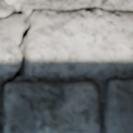brick: (3, 82, 99, 132), (105, 80, 132, 132), (6, 0, 102, 3), (107, 0, 132, 4)
broken_brick: (27, 8, 132, 74), (0, 13, 22, 75)
crack: (0, 2, 34, 130)
